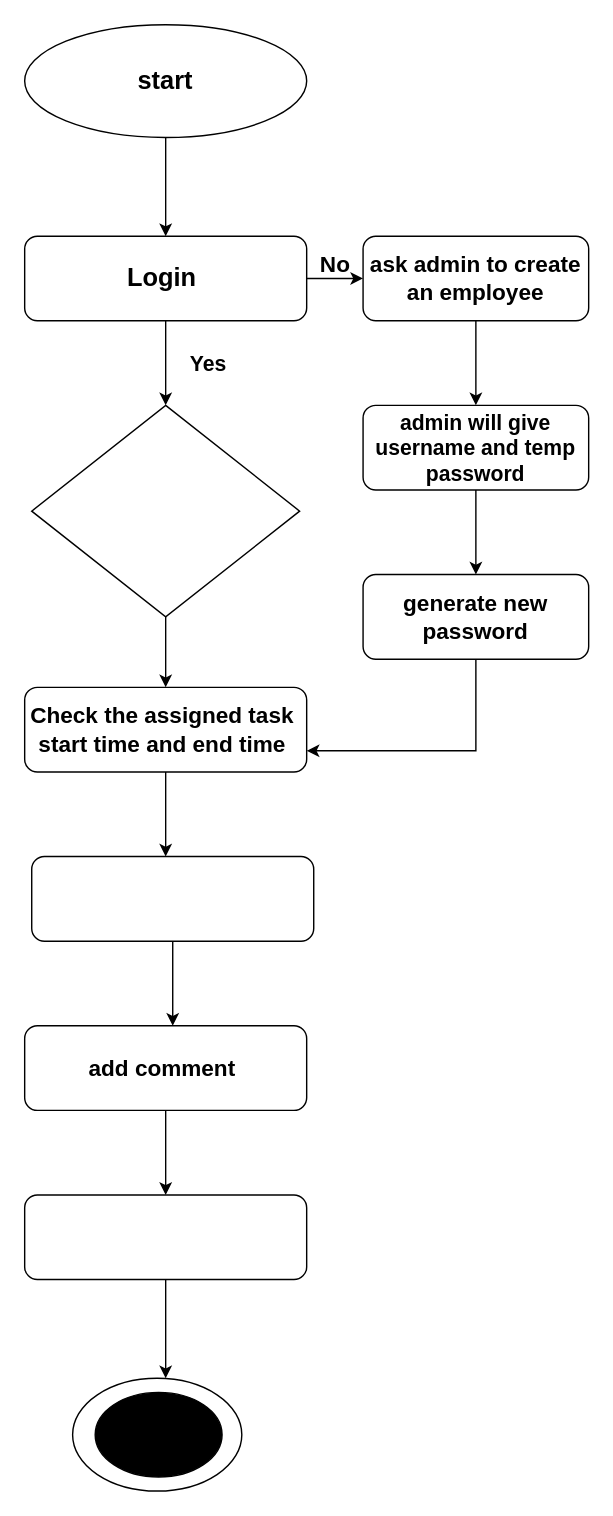
The diagram is 613 pixels wide and 1516 high, and some of its shapes have lost their labels. The shapes that lost their labels are listed below. From the top down, each one's centre as x and y in pixels, then its label:
At (165,510): "Employee Dashboard".
At (172,898): "Update the status".
At (165,1237): "Logout".
